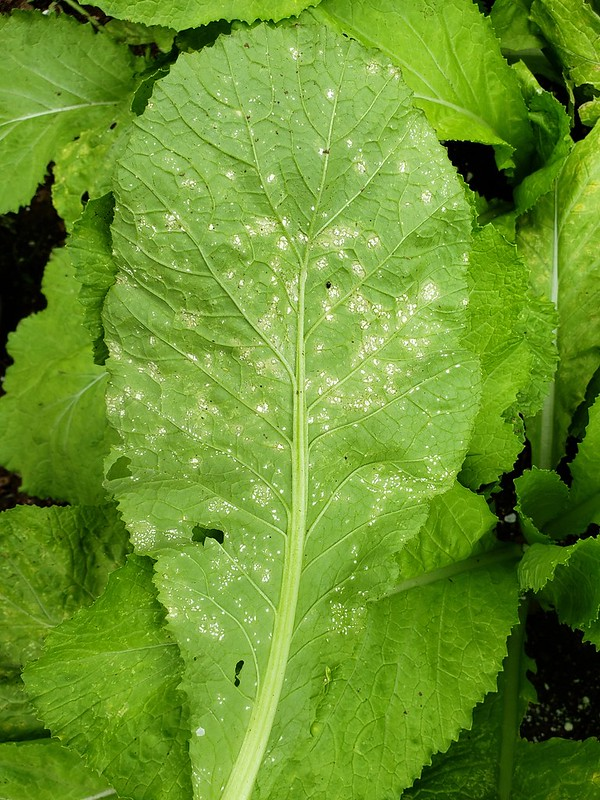Mustard_WhiteRust: (144, 90, 417, 681)
